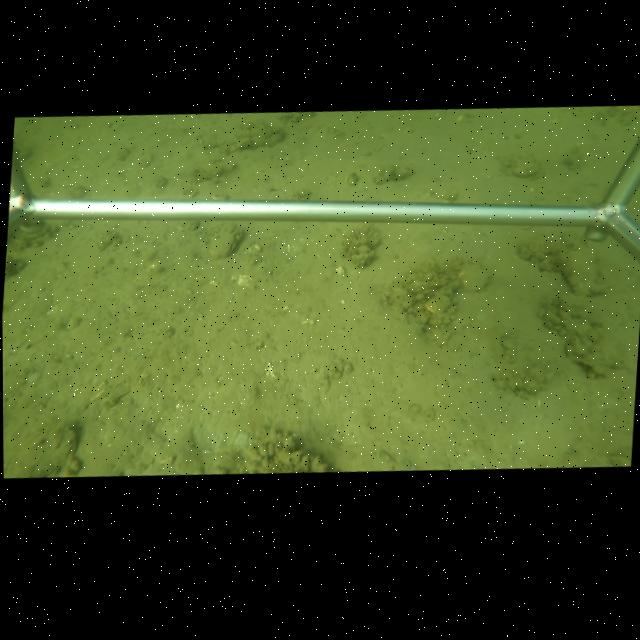Oyster-Closed: (206, 224, 242, 259), (504, 154, 543, 180)
Oyster-Indeterminate: (555, 236, 611, 302), (459, 262, 491, 293)
